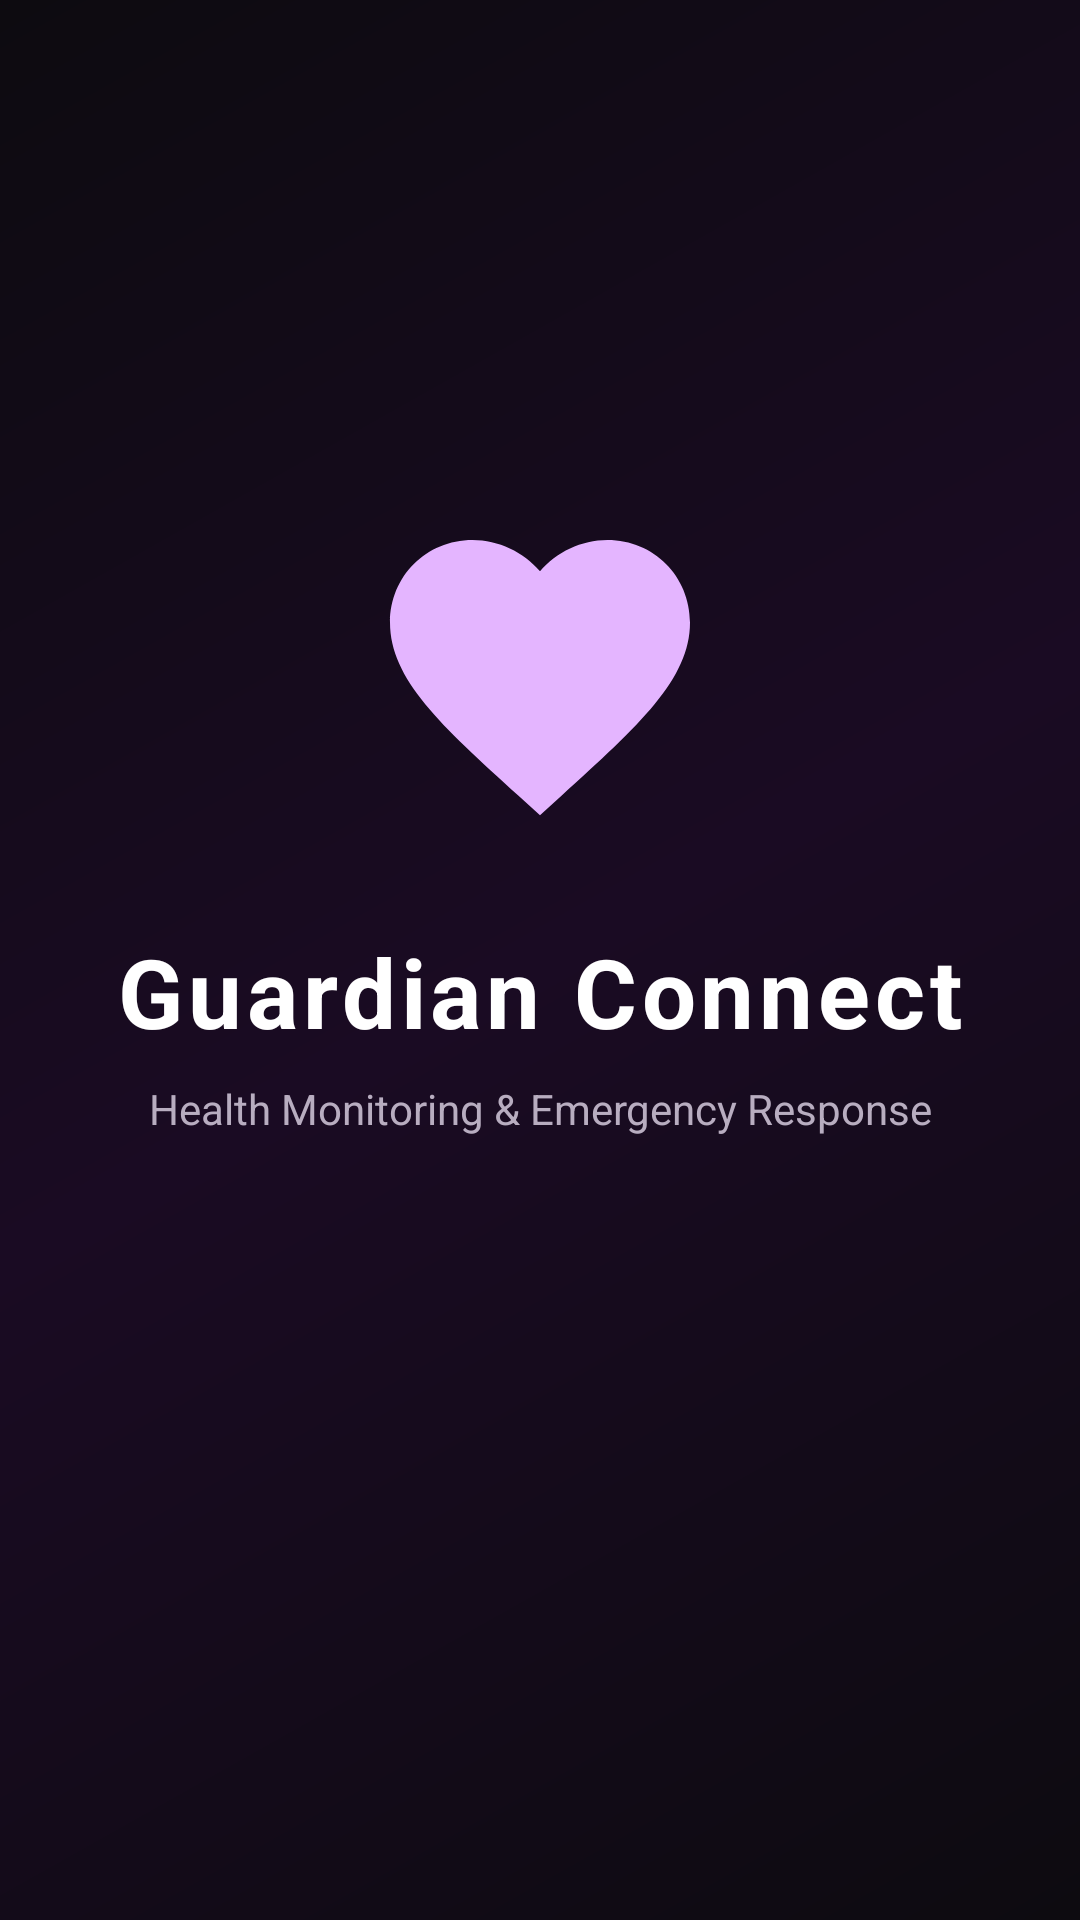

Point at icon controls on the screen. Image size 1080 x 1920, points as (x=x, y=y).
heart: (x=540, y=677)
